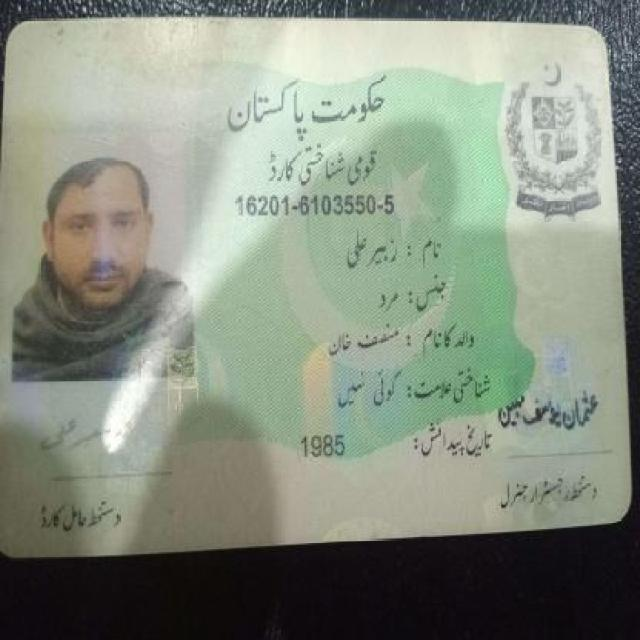Front: (6, 18, 622, 534)
